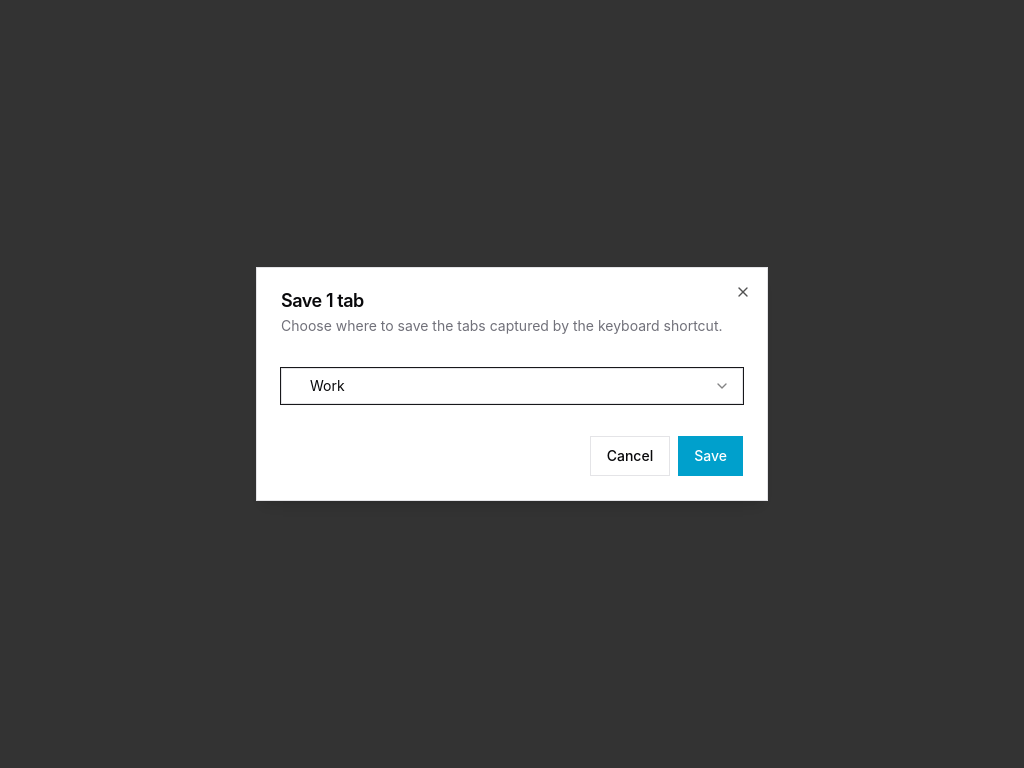
Test: ShortcutSavePickerModal › excludes permanent and archived groups from the dropdown
The width and height of the screenshot is (1024, 768).
Click the dropdown.
click(327, 386)  # box [281,368,743,404]
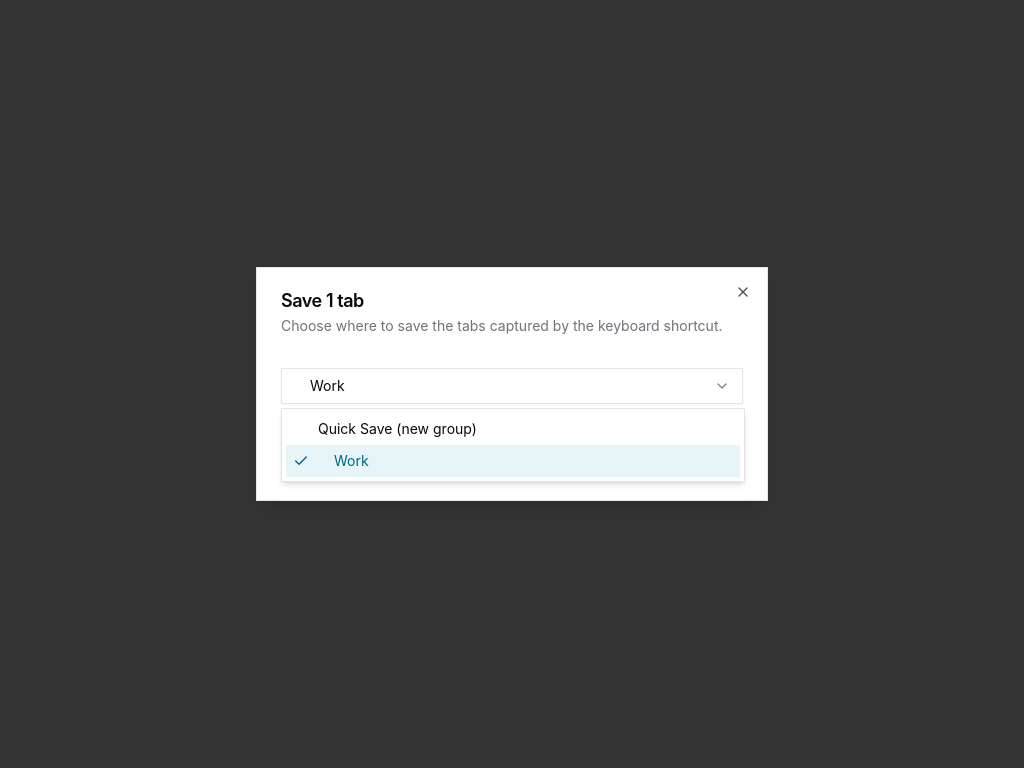
Check: the text "Work" below "Save 1 tab" is shown, box [310,377,345,394]
Check: the text "Quick Save (new group)" is shown, box [318,419,477,439]
